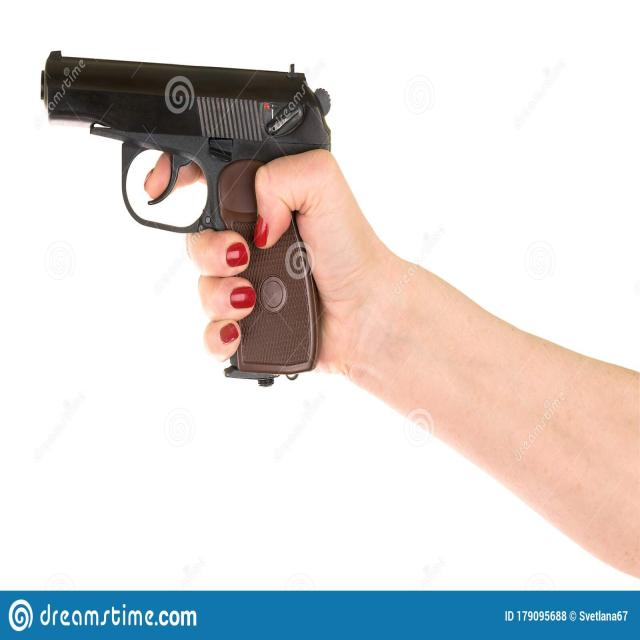HandGun: (42, 51, 332, 377)
